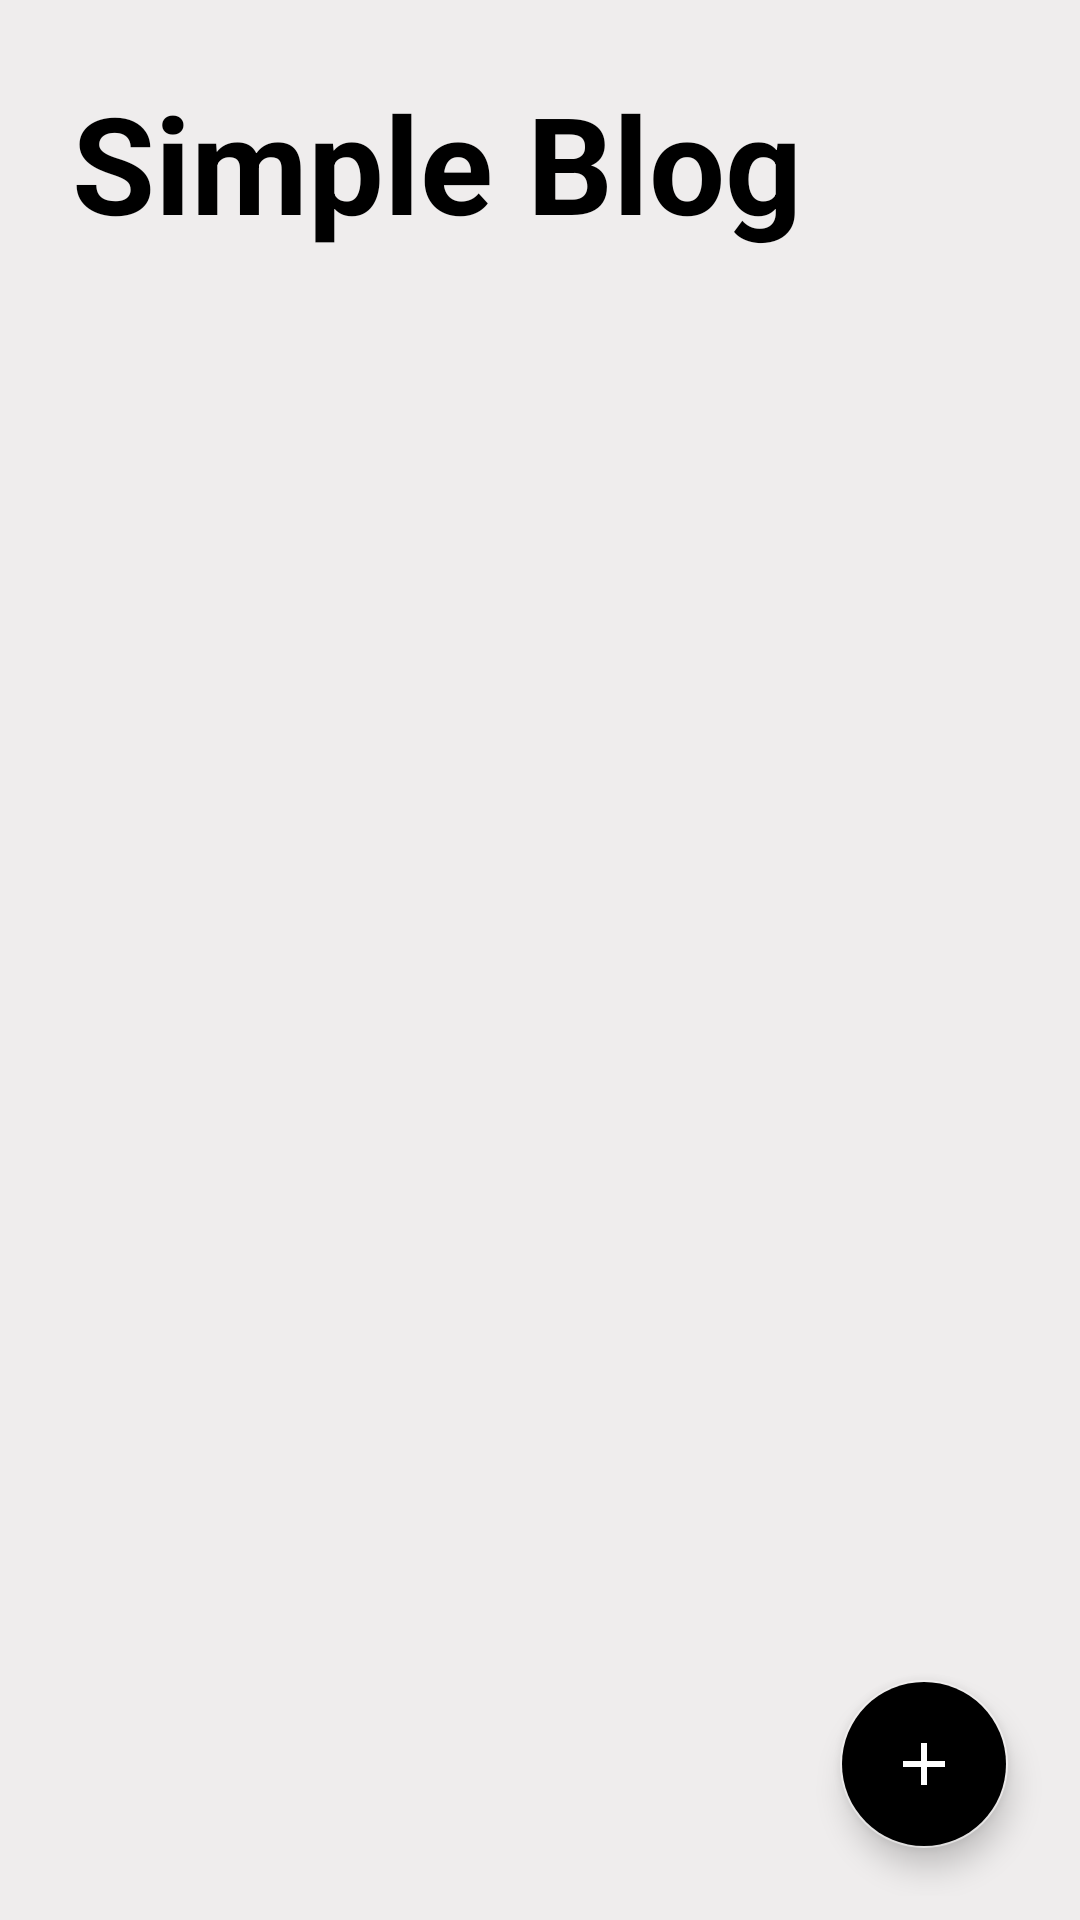

Screen size 1080 x 1920. Icon name, then its box in pixels as (x1, y1, x2, y2):
plus: (842, 1682, 1006, 1846)
